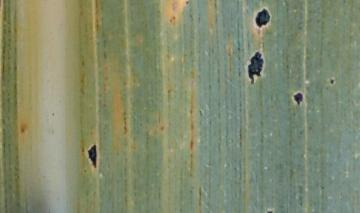tarspot: (247, 51, 264, 85), (254, 8, 272, 27), (87, 144, 98, 170), (292, 91, 304, 106), (330, 78, 335, 86), (185, 1, 190, 7), (266, 209, 273, 213)
